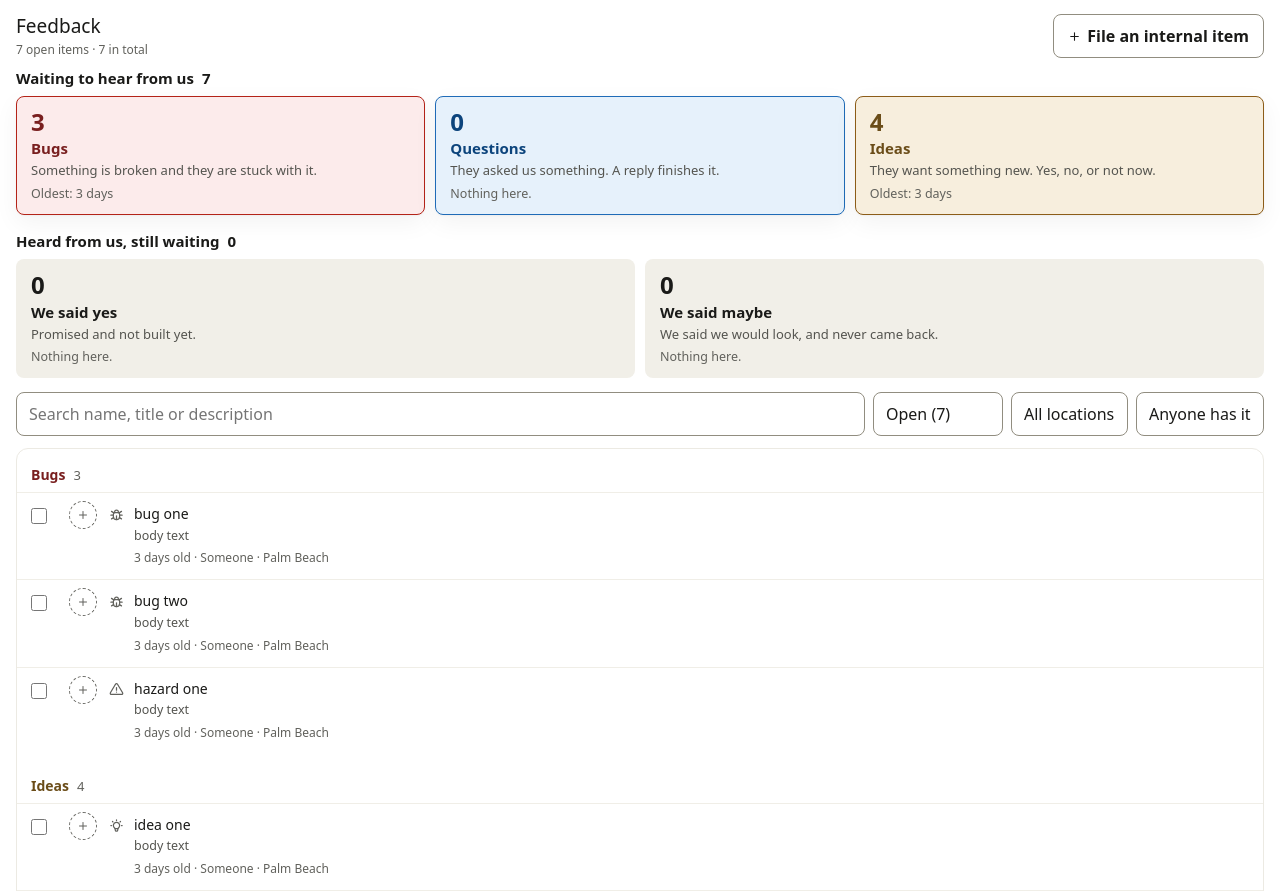
Test case: the internal composer › states plainly that an owner never sees it
Click the button "File an internal item". click: point(1159, 36)
box: [1053,14,1264,58]
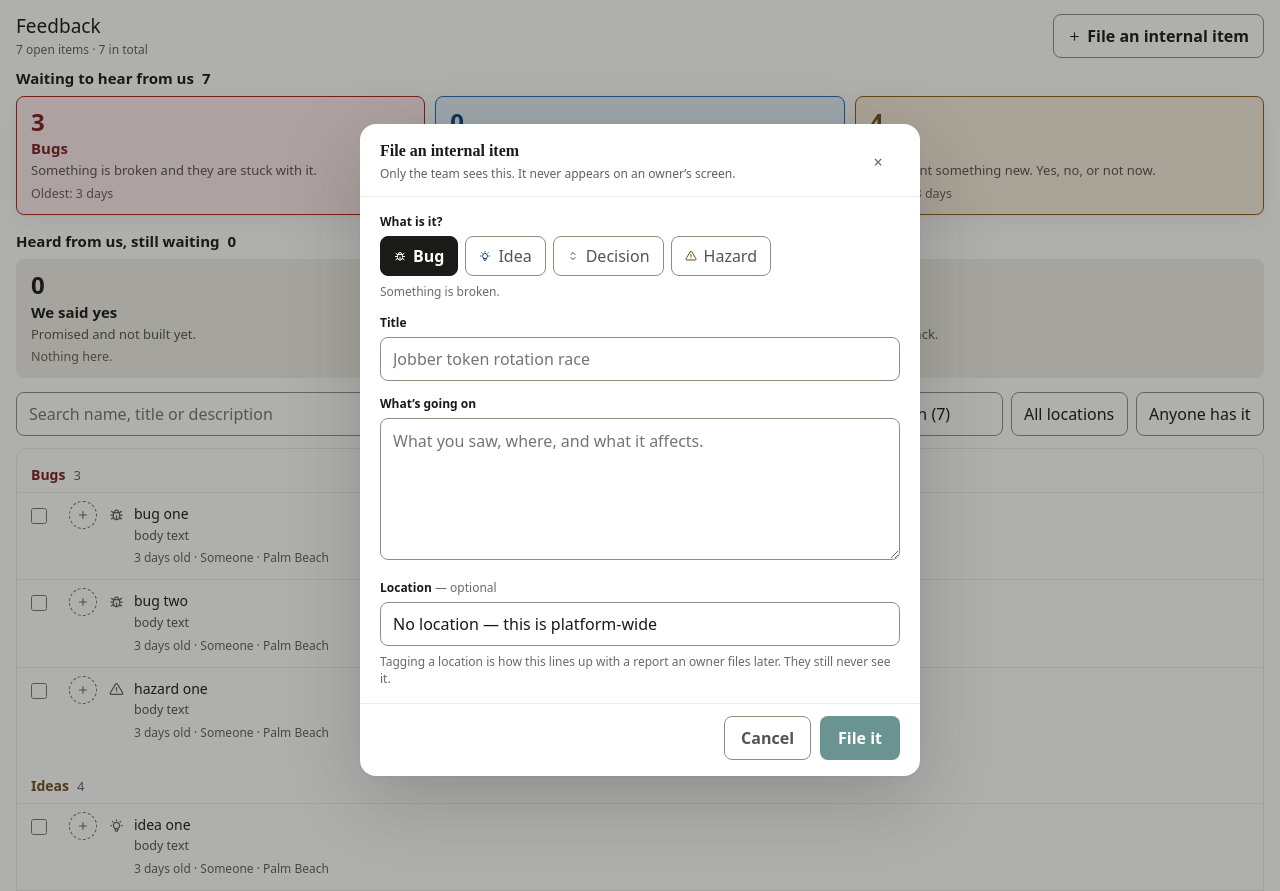
Result: the text "never appears on an owner" is shown at [380,165,735,182]
